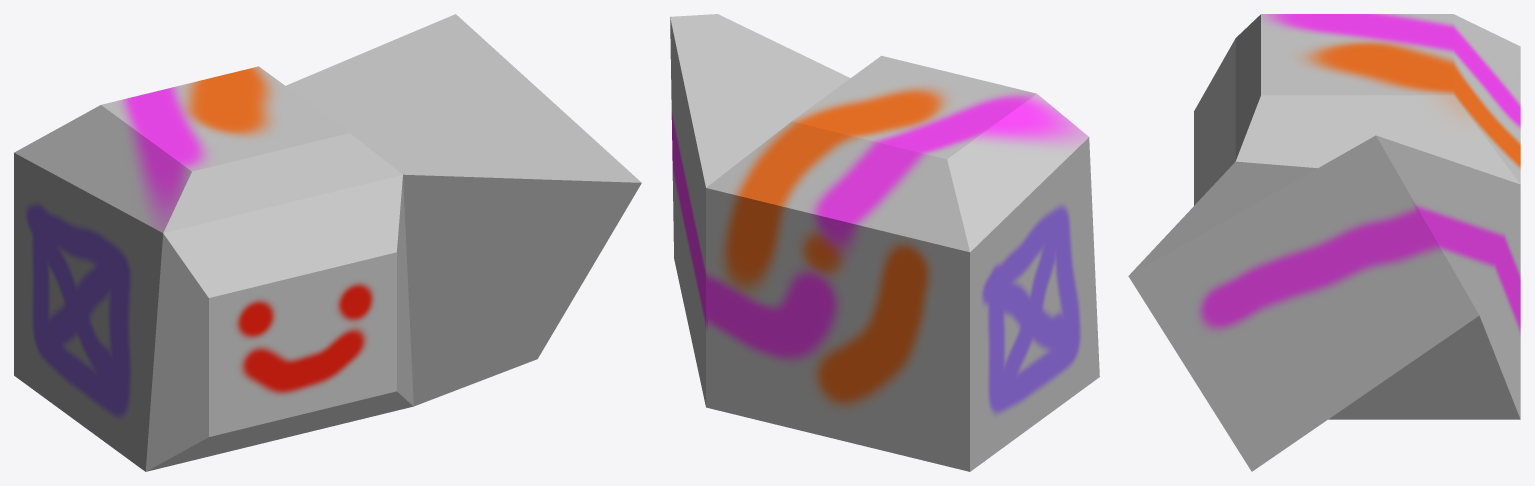
The picture shows the model from 3 angles, left to right: view 1: azimuth 30°, elevation 25°; view 2: azimuth 150°, elevation 25°; view 3: azimuth 270°, elevation 25°; orthographic projection. The views are drawn at different scales.
Parts seen in each view (by area): view 1: Cube; view 2: Cube; view 3: Cube.
Part boxes in pixels (<box>): Cube: <box>14,14,641,471</box>; Cube: <box>670,14,1099,471</box>; Cube: <box>1128,14,1520,471</box>.
Bounding box in the file's own units: 3.3 × 2.29 × 2.4.
1 material, 1 textured.
